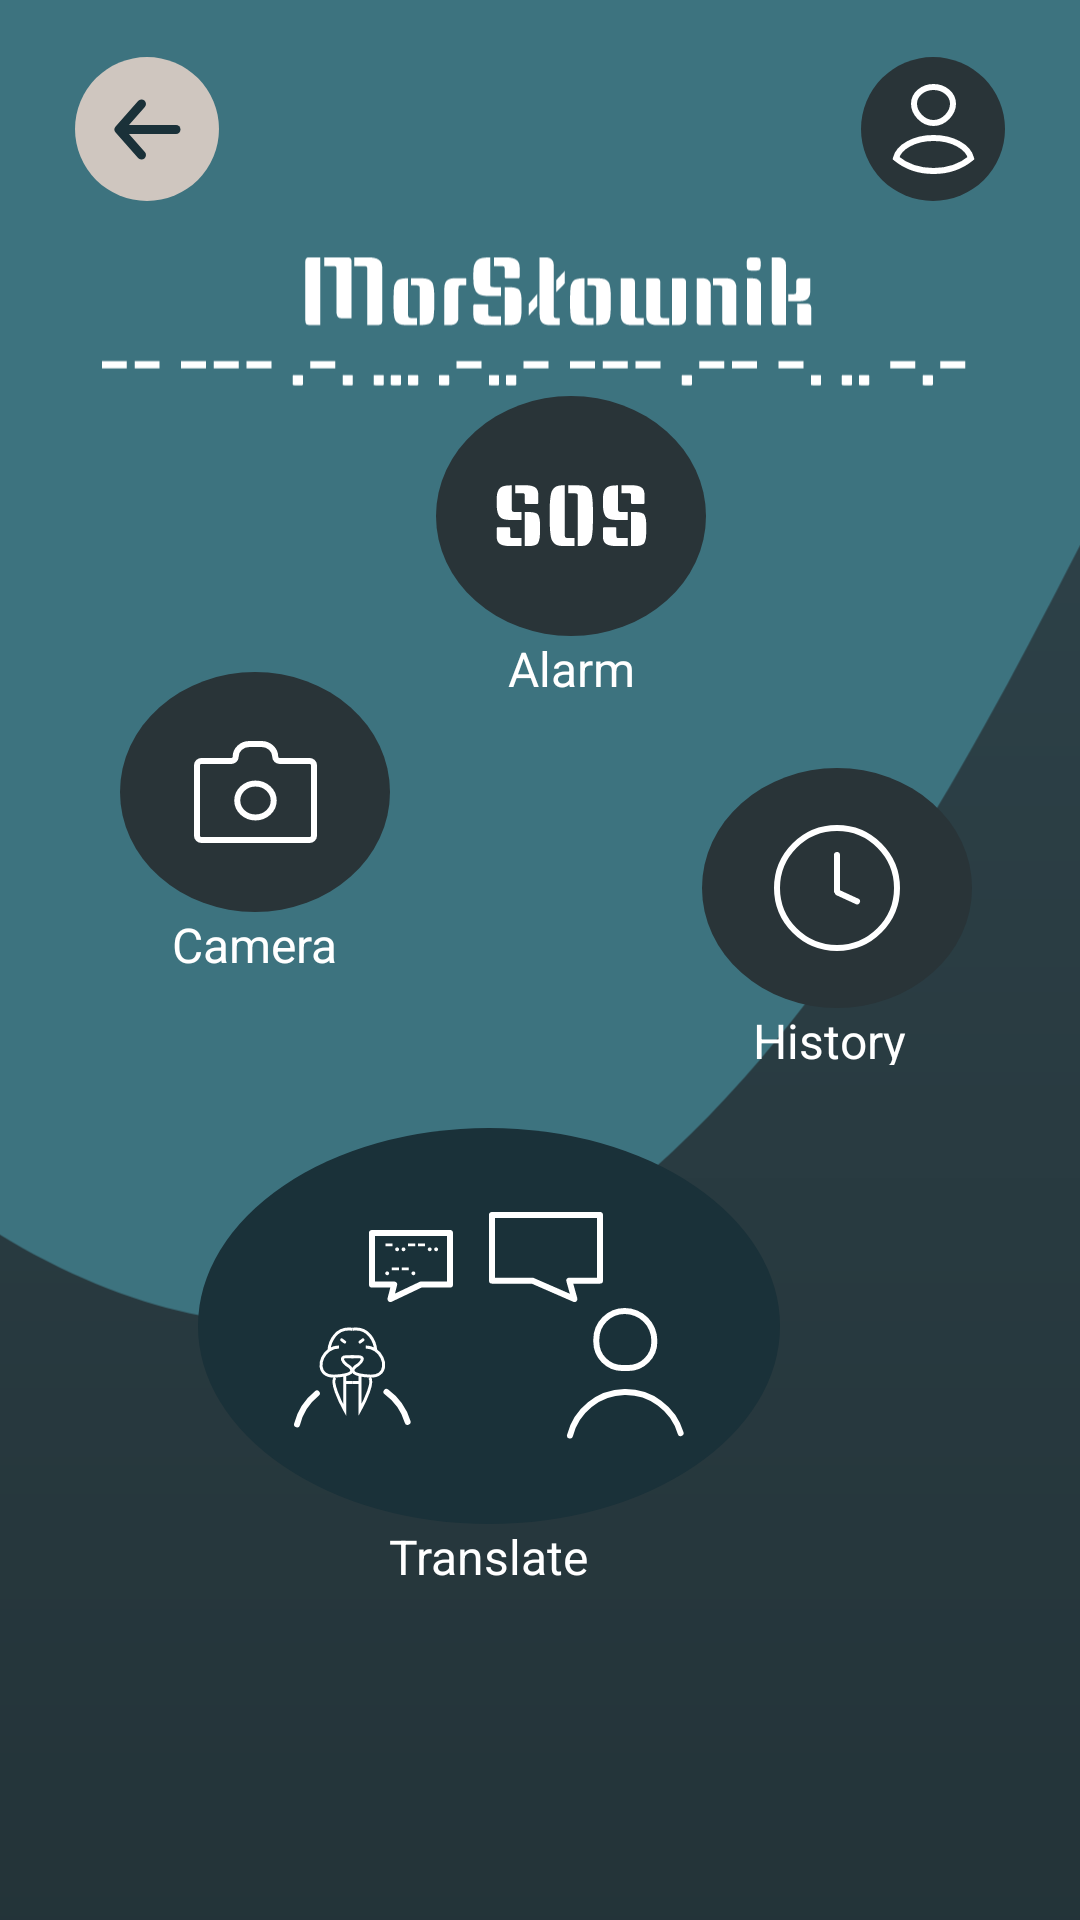

Locate icon controls on the screen. Image size 1080x1920, boxes as [x1,y1,x2,y2].
back arrow: [75,57,219,201]
